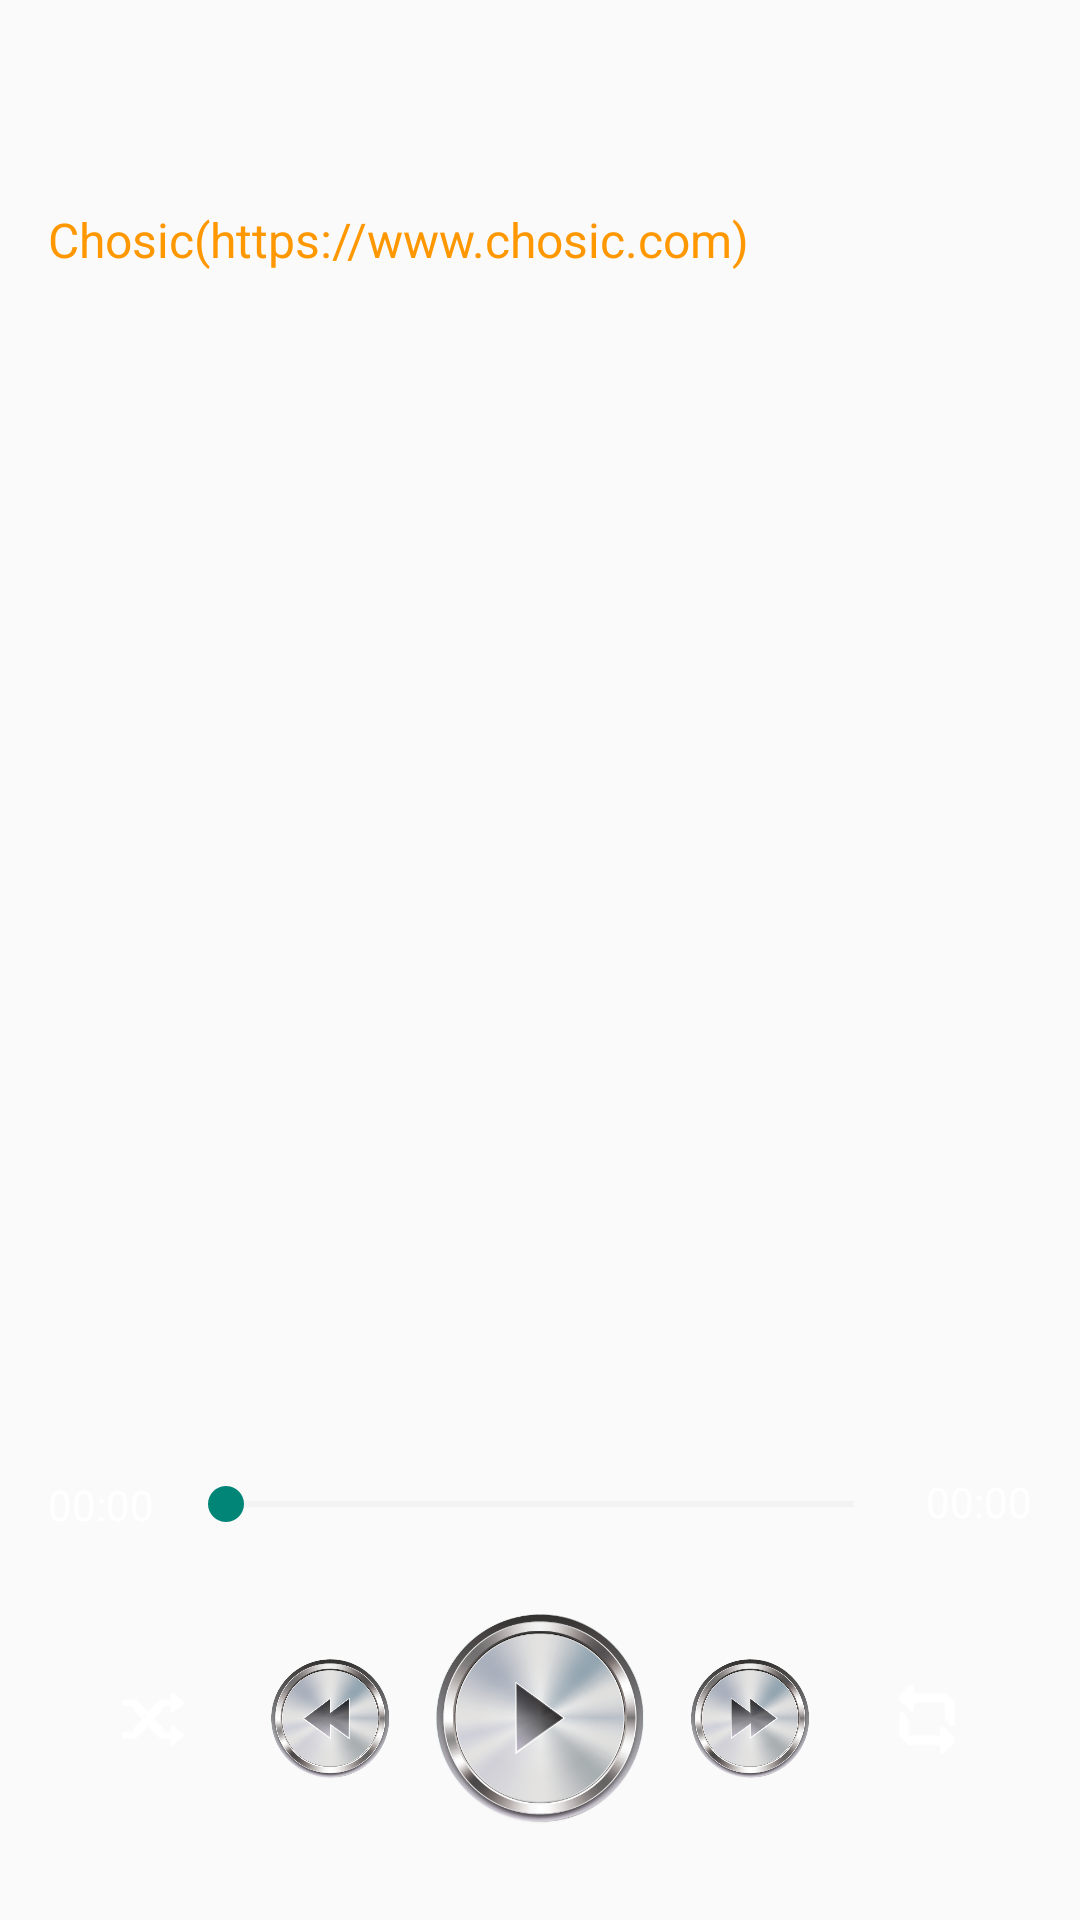

Where icons sit on this 1080w x 1920h app screen, as box(x1, y1, x2, y2):
next: box(691, 1659, 809, 1778)
play: box(436, 1614, 643, 1822)
pre: box(271, 1659, 389, 1778)
